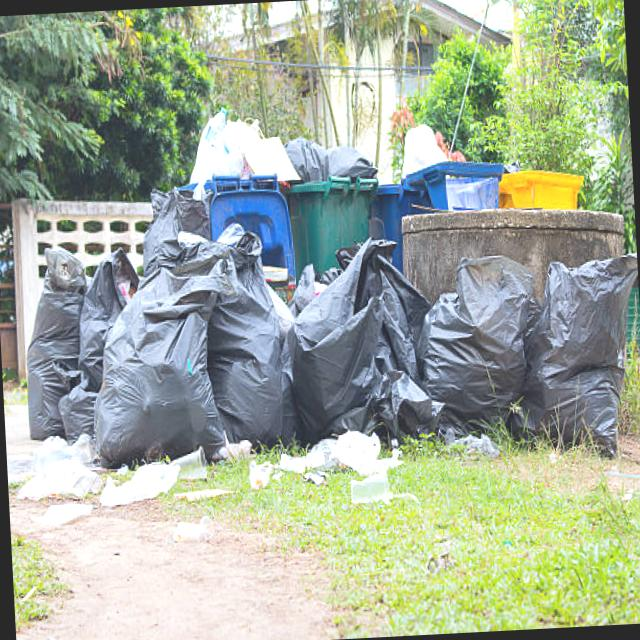garbage: (7, 93, 640, 499)
